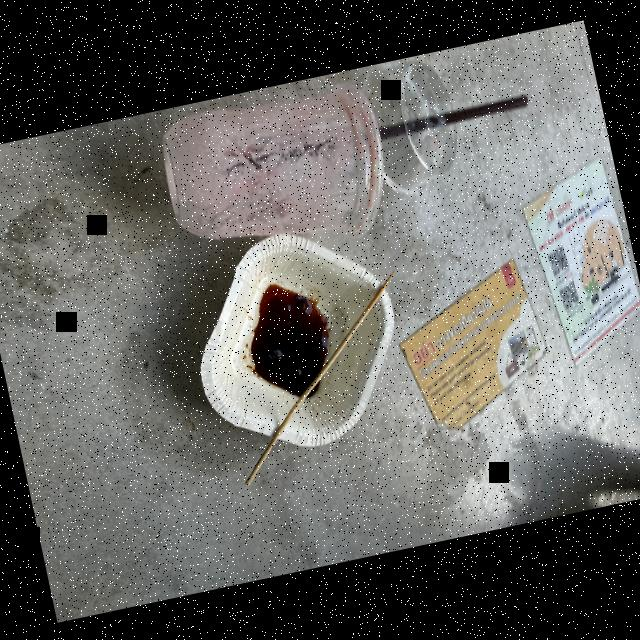cardboard_bowl: (159, 212, 427, 470)
plastic_cup: (150, 71, 405, 283)
plastic_cup_lid: (348, 49, 470, 200)
stick: (205, 274, 422, 485)
straw: (362, 86, 537, 144)
